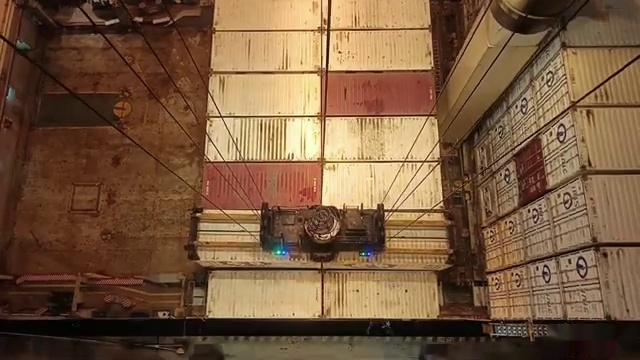container: (186, 212, 455, 274), (204, 271, 442, 323), (197, 164, 446, 211), (205, 117, 442, 164), (205, 72, 436, 116), (206, 29, 434, 71), (205, 0, 429, 29)
guide_mark: (102, 318, 546, 338), (62, 353, 562, 360)
spreader: (181, 196, 462, 267)
target_slot: (181, 198, 459, 269)
